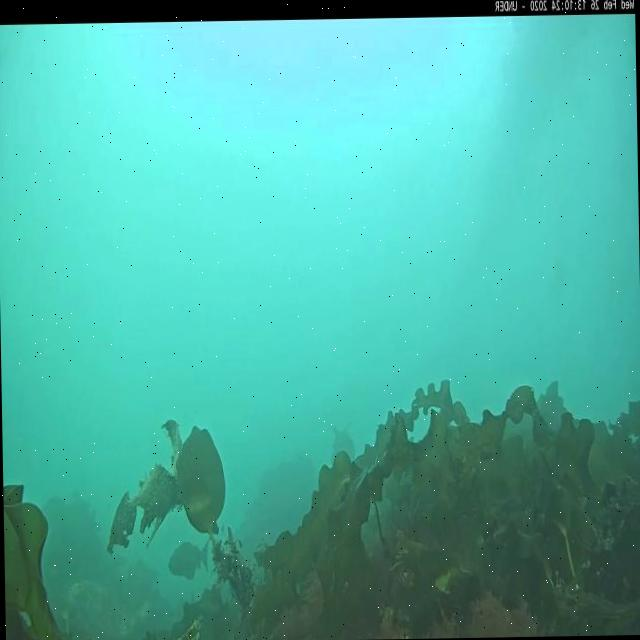fish: (166, 538, 212, 584)
